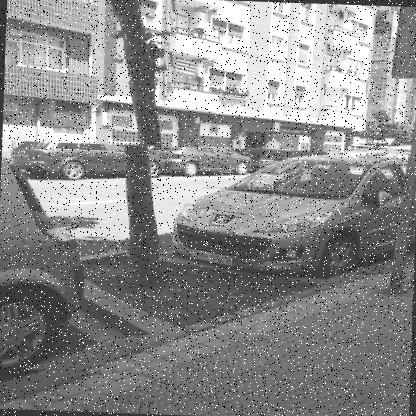Car: (0, 140, 415, 386)
